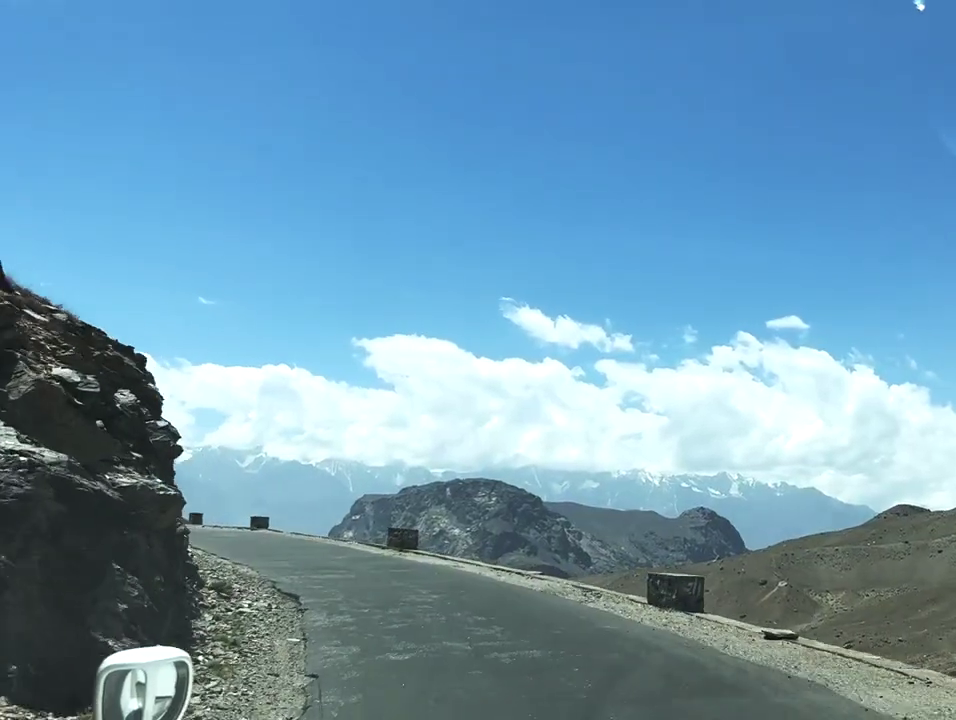right: (188, 454, 630, 671)
